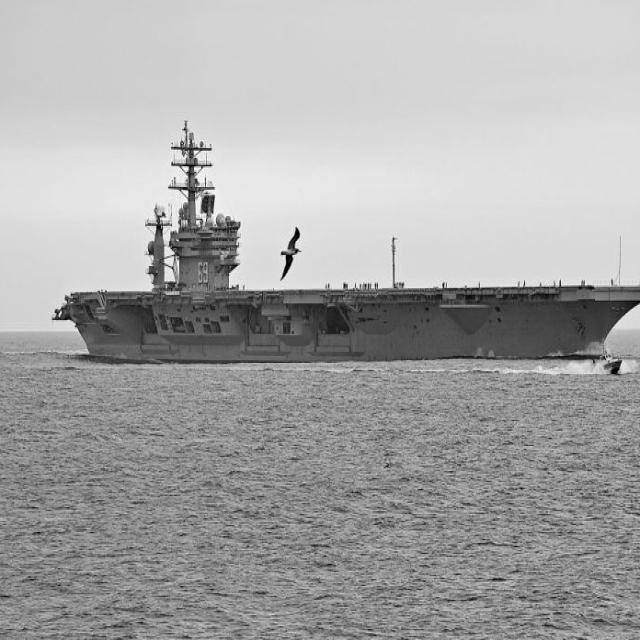Portanaves: (53, 112, 640, 367)
